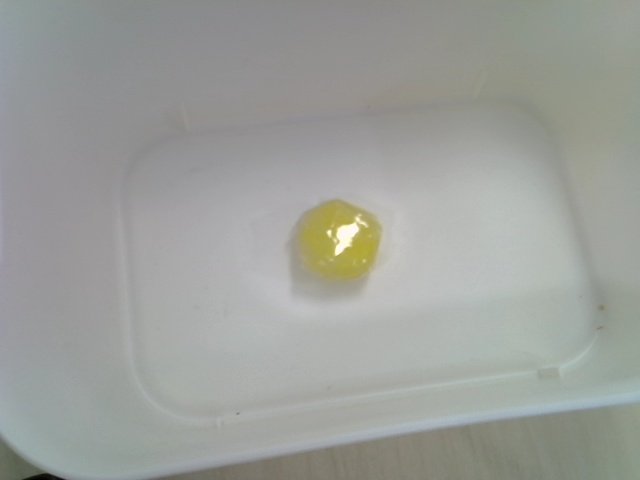씨앗: (292, 202, 385, 284)
